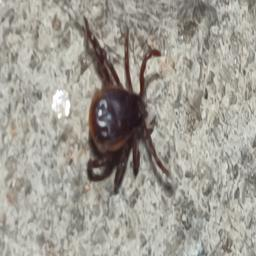Rhipicephalus sanguineus: (87, 20, 171, 195)
